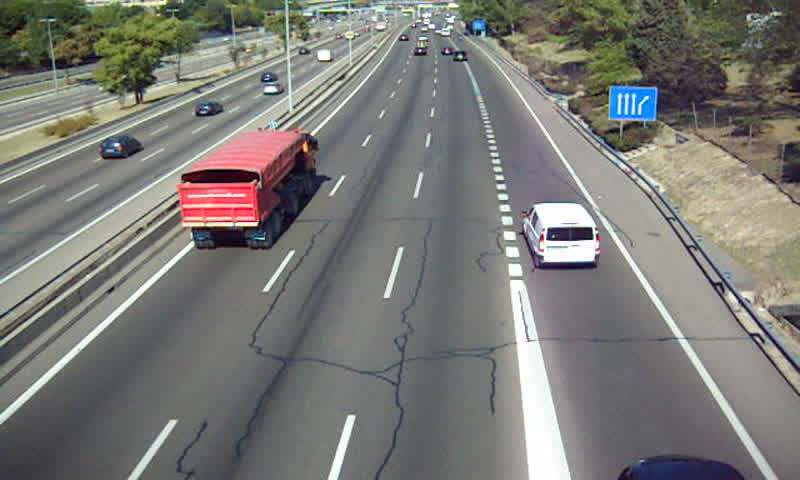truck: (178, 130, 317, 250)
van: (520, 203, 600, 267)
